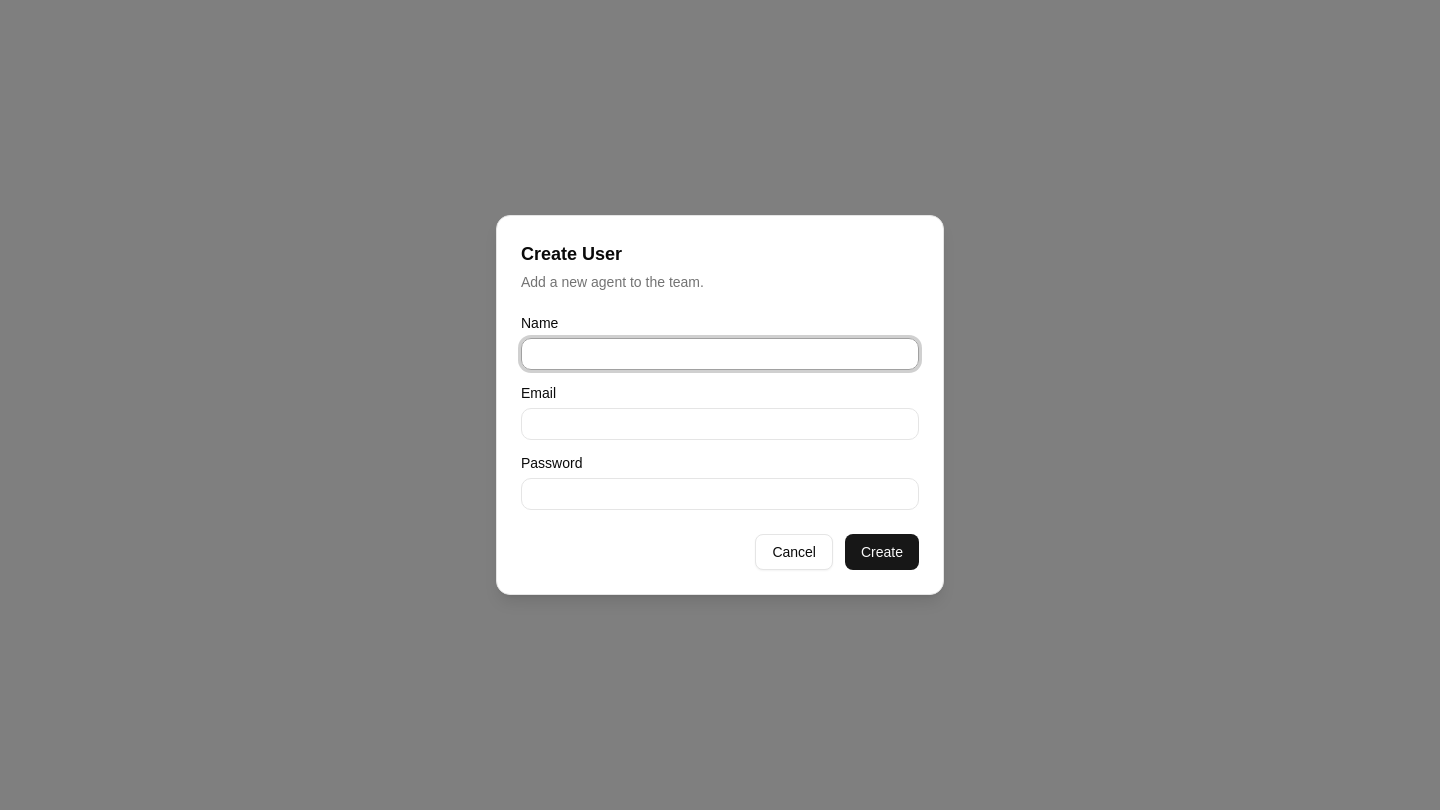
Test: UserFormDialog — create mode › validation errors › shows all errors when submitting an empty form
Step 1. Click the button "Create" → (882, 552), box [845, 534, 919, 570]
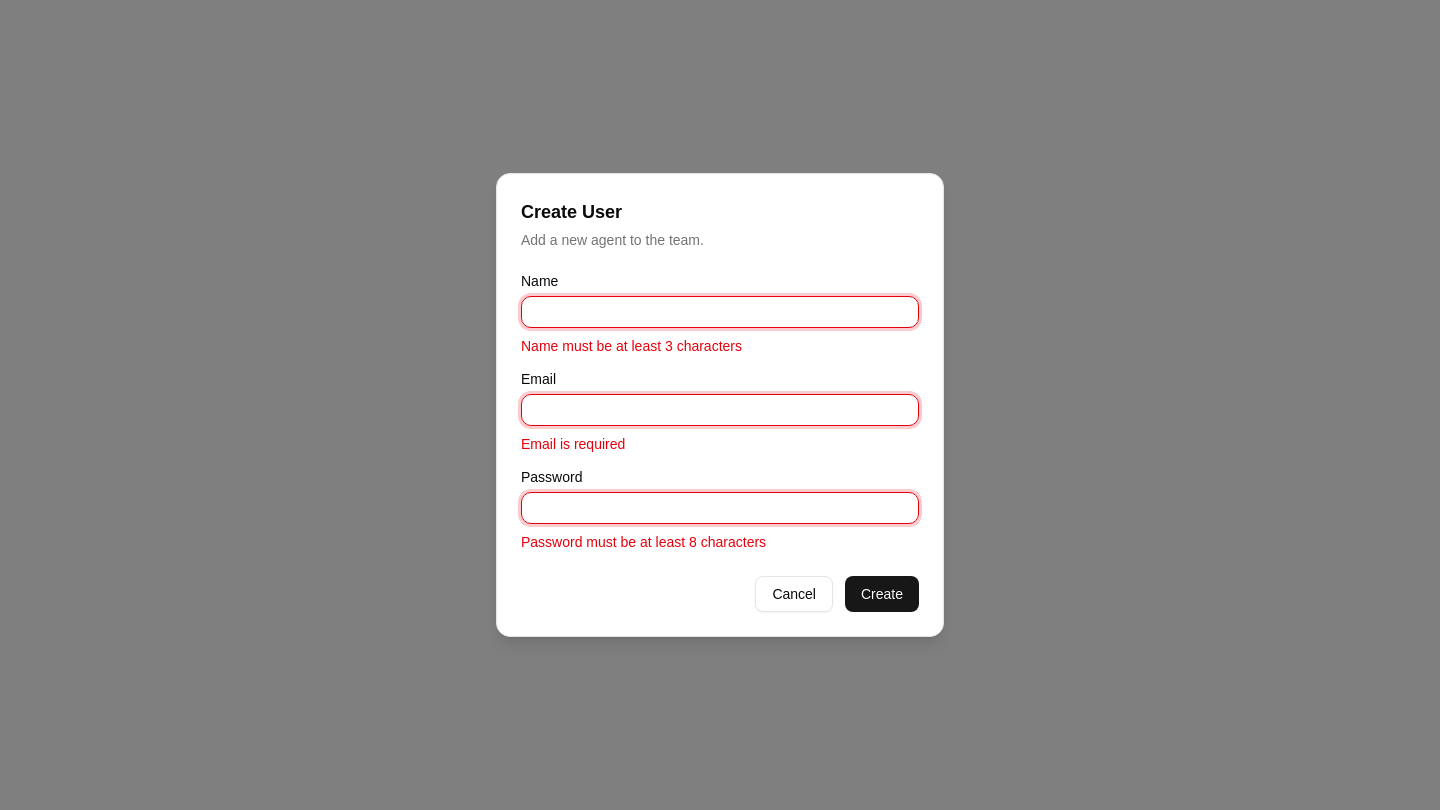
Check: the text "Name must be at least 3 characters" is shown, box [521, 338, 742, 354]
Check: the text "Email is required" is shown, box [521, 436, 625, 452]
Check: the text "Password must be at least 8 characters" is shown, box [521, 534, 766, 550]
